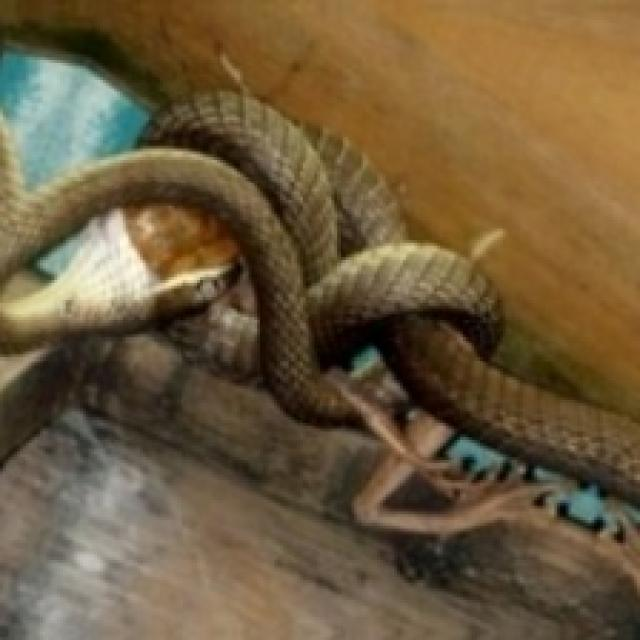paradise tree snake: (0, 0, 637, 414), (0, 411, 637, 637)
